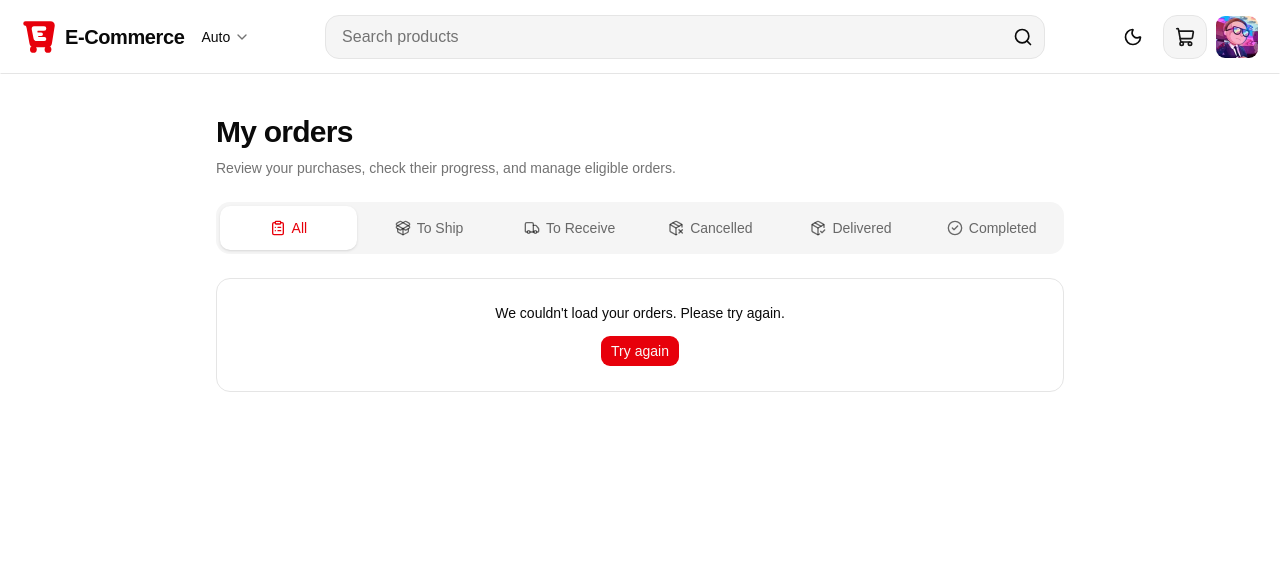
Test: read failures offer retry and an empty tab has a clear state
Step 1. Click the button "Try again" → (640, 351), box [600,335,680,367]
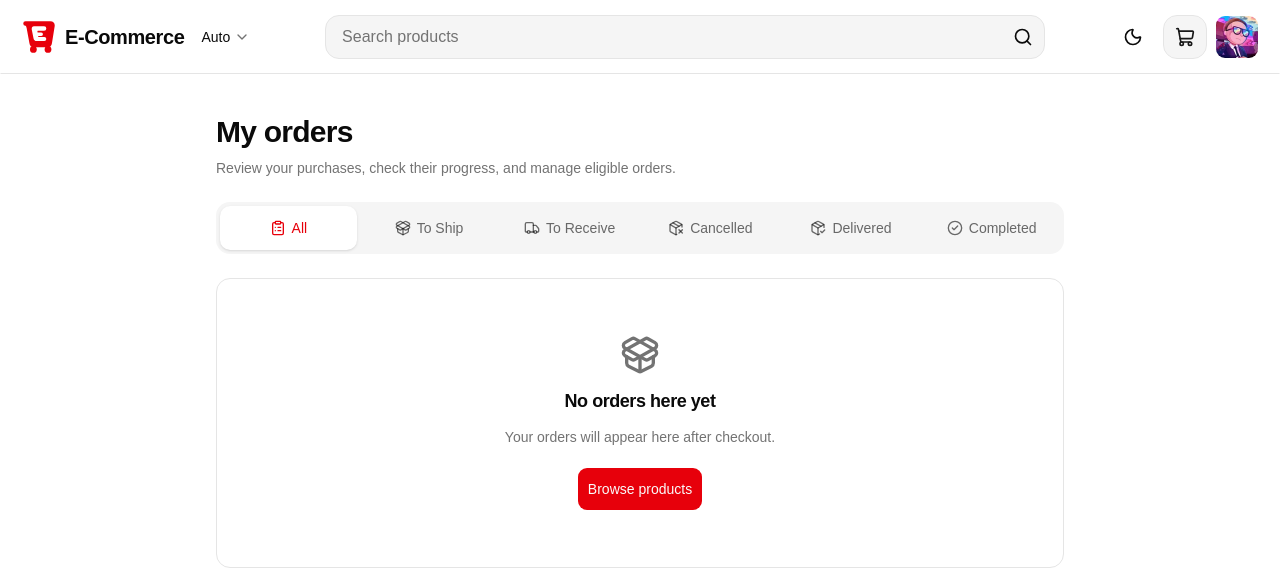
Expected: the heading "No orders here yet" is shown, [564,387,716,415]
